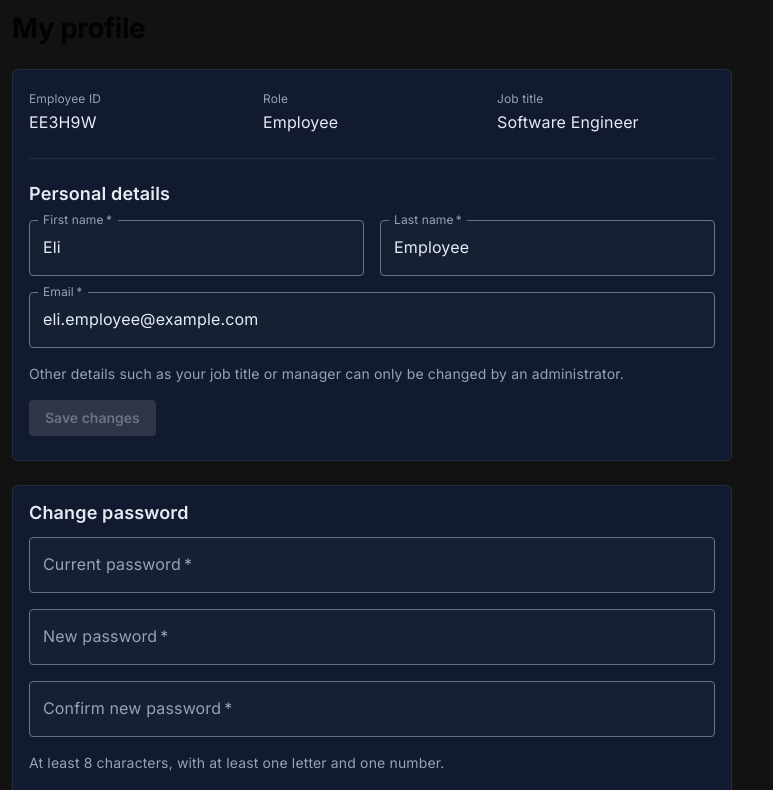
Test case: ProfilePage › saves changed name/email and updates the signed-in user
The image size is (773, 790).
Replace the text in the field labelled "First name *" with "Elijah" at coordinates (196, 248), box [29, 220, 364, 276]
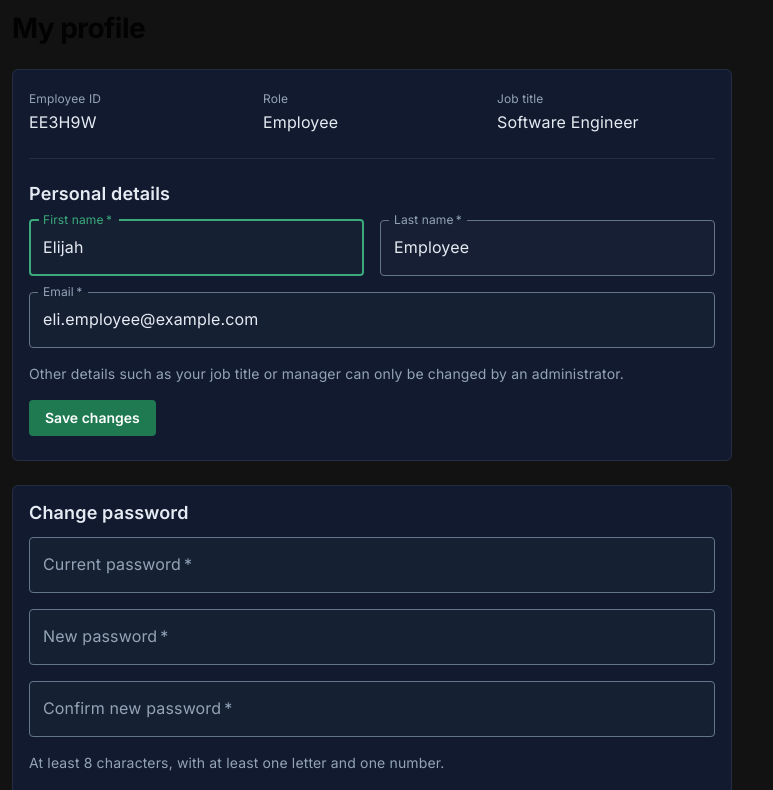
Click the button "Save changes" at coordinates (92, 418), box [29, 400, 156, 436]
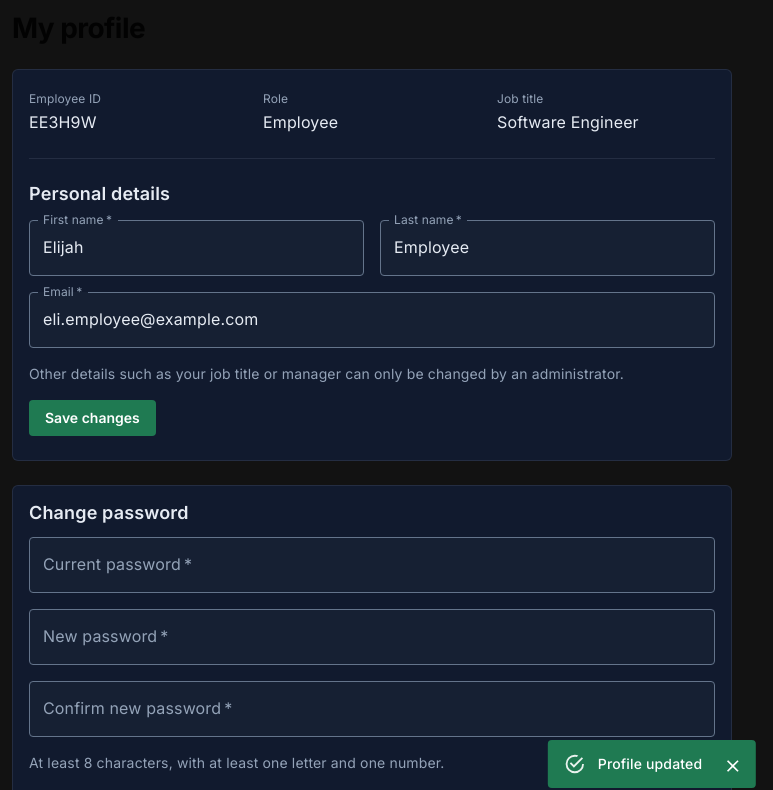
Result: the text "Profile updated" is shown at [598, 755, 702, 772]
